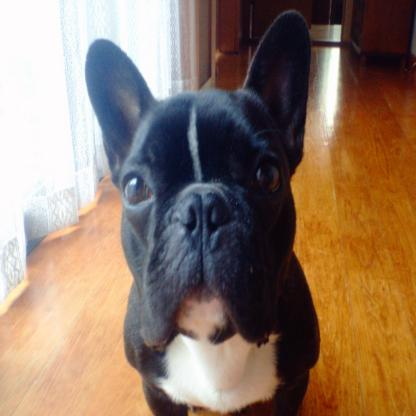French_bulldog: (84, 9, 321, 414)
